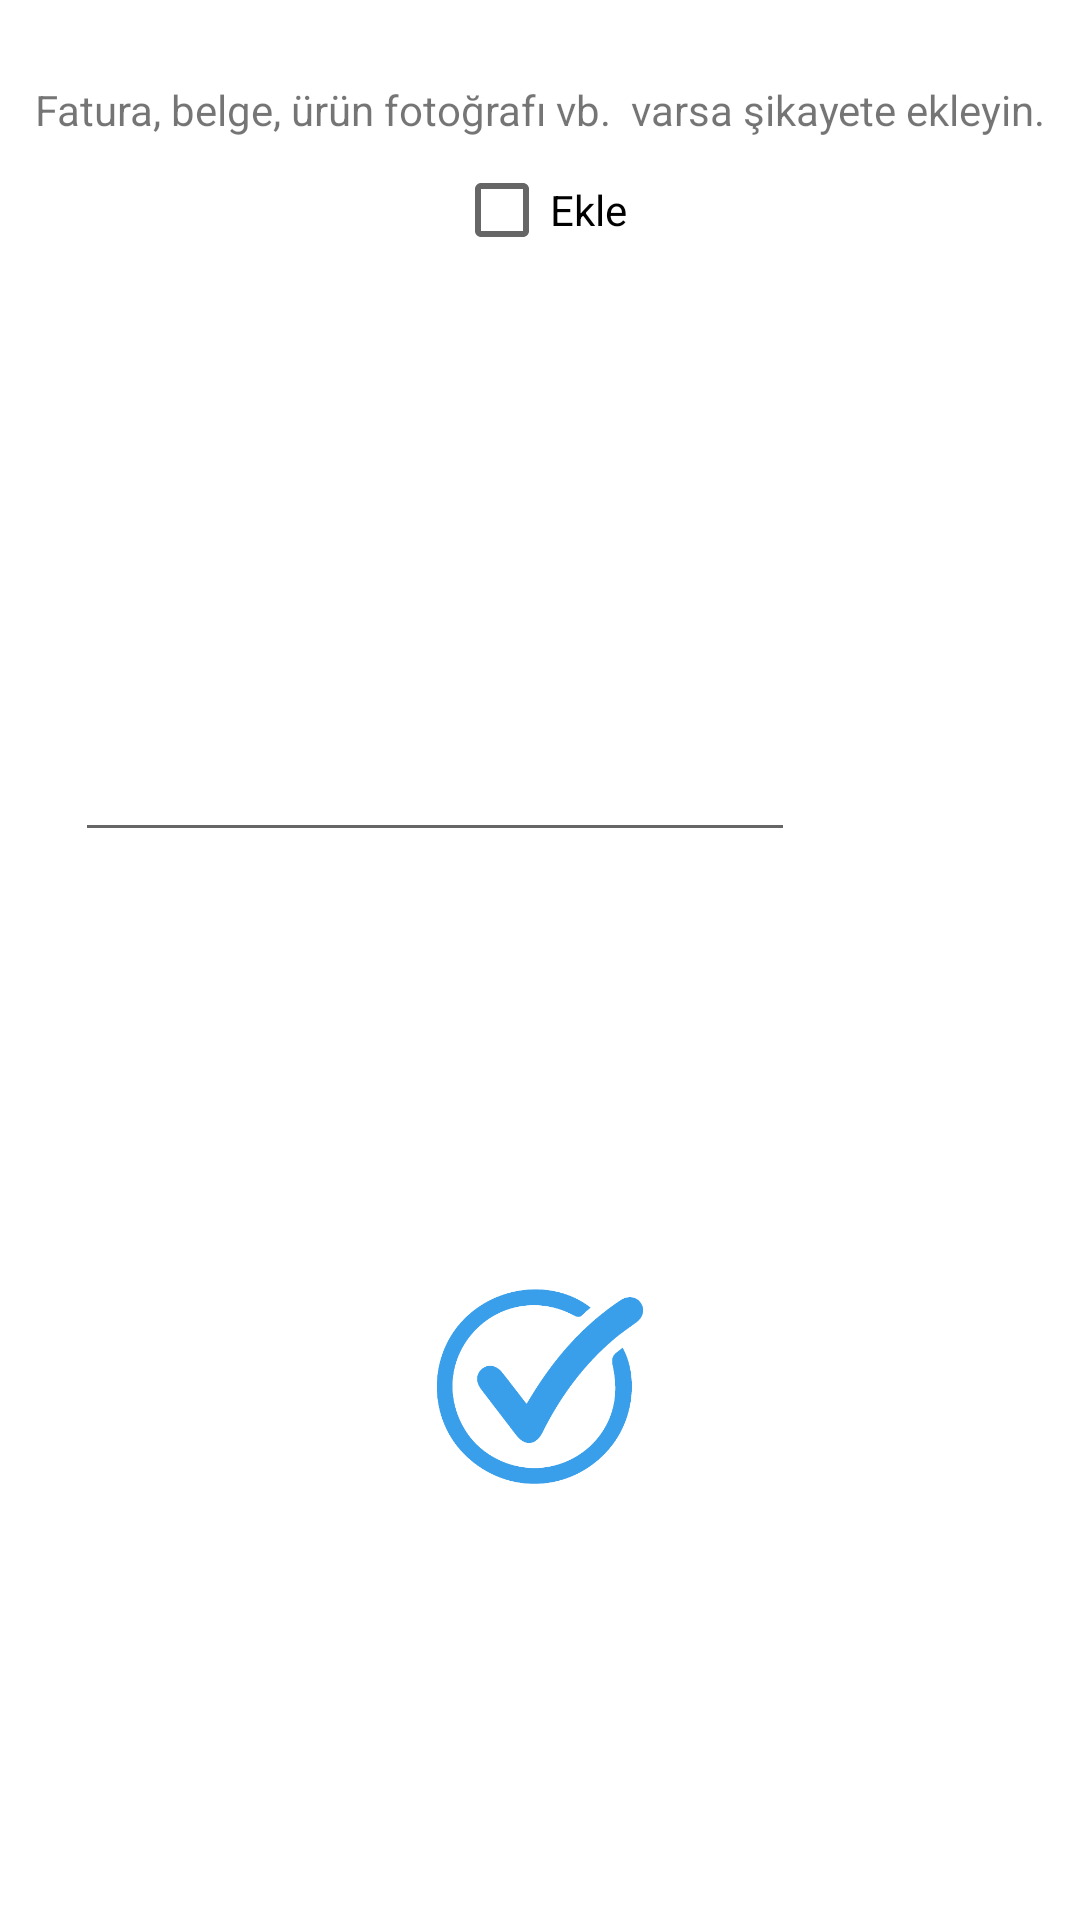

Icons on this 1080 × 1920 Android screen, each with its box as (x1, y1, x2, y2):
success: (437, 1289, 643, 1484)
